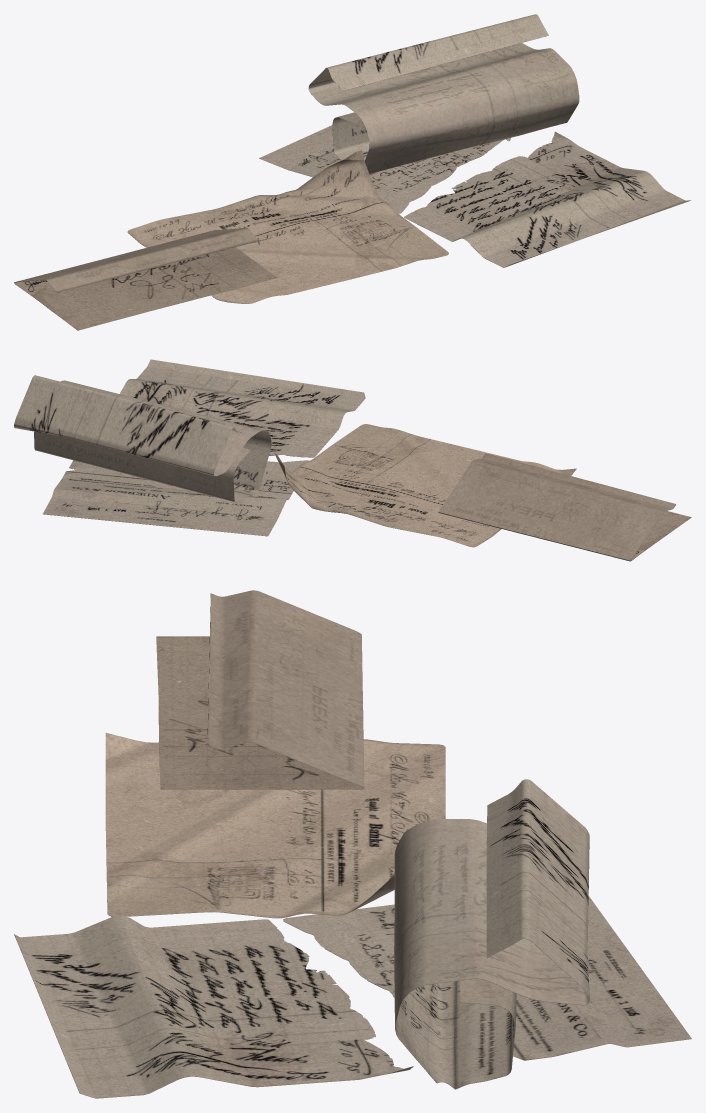
Rendered from PaperLetter2.fbx.
3 renders of one model, top to bottom at view 1: azimuth 30°, elevation 25°; view 2: azimuth 150°, elevation 25°; view 3: azimuth 270°, elevation 25°, orthographic. The views are drawn at different scales.
Parts seen in each view (by area): view 1: 19th-Century Paper Clutter Waste.001; view 2: 19th-Century Paper Clutter Waste.001; view 3: 19th-Century Paper Clutter Waste.001.
Boxes of the visible parts, x1,y1,x2,y2 form: 19th-Century Paper Clutter Waste.001: [14, 14, 691, 330]; 19th-Century Paper Clutter Waste.001: [14, 359, 691, 561]; 19th-Century Paper Clutter Waste.001: [14, 590, 691, 1098].
Bounding box in the file's own units: 54.26 × 8.08 × 33.52.
Materials: 2 (2 with a texture image).
